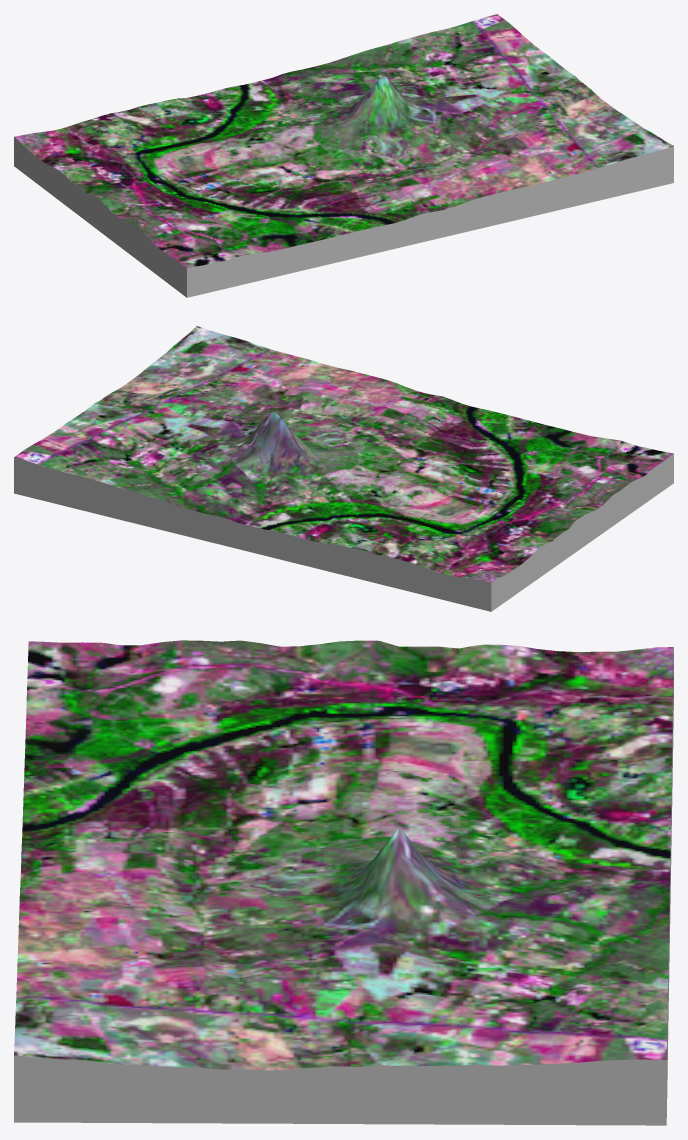
The model's file is maquete.gltf.
3 views of the same model, one above another, from view 1: azimuth 30°, elevation 25°; view 2: azimuth 150°, elevation 25°; view 3: azimuth 270°, elevation 25° (orthographic). The views are drawn at different scales.
Visible parts, largest first — view 1: srtm_4x, side; view 2: srtm_4x, side; view 3: srtm_4x, side.
Part boxes in pixels (left/top/right/bottom): srtm_4x: left=14, top=14, right=673, bottom=267; side: left=14, top=137, right=673, bottom=297; srtm_4x: left=14, top=326, right=673, bottom=582; side: left=14, top=453, right=673, bottom=611; srtm_4x: left=14, top=640, right=673, bottom=1069; side: left=14, top=657, right=673, bottom=1125.
Size of the model in its own units: 11657 by 1703 by 7563.
Materials: 4 (1 with a texture image).
